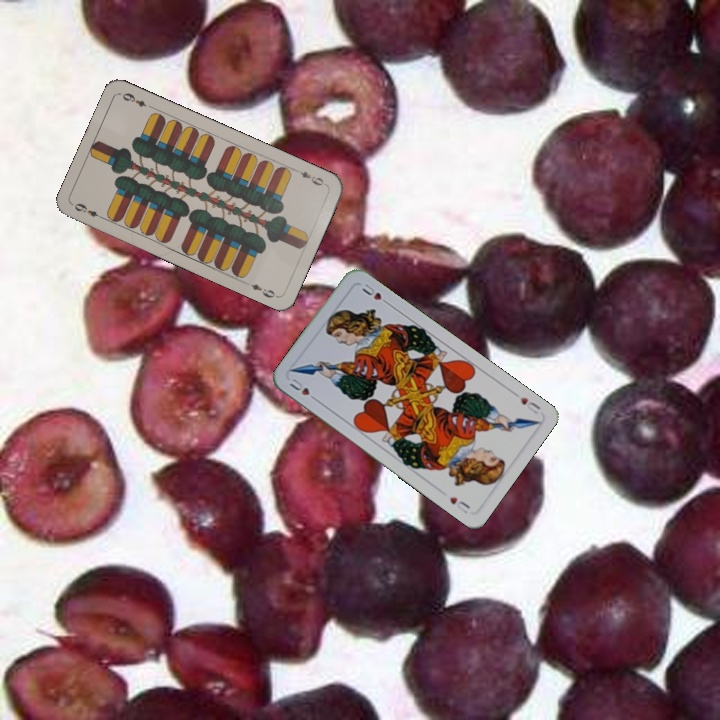E9: (70, 199, 107, 222), (296, 167, 329, 188)
HU: (285, 374, 321, 403), (515, 393, 543, 416)
